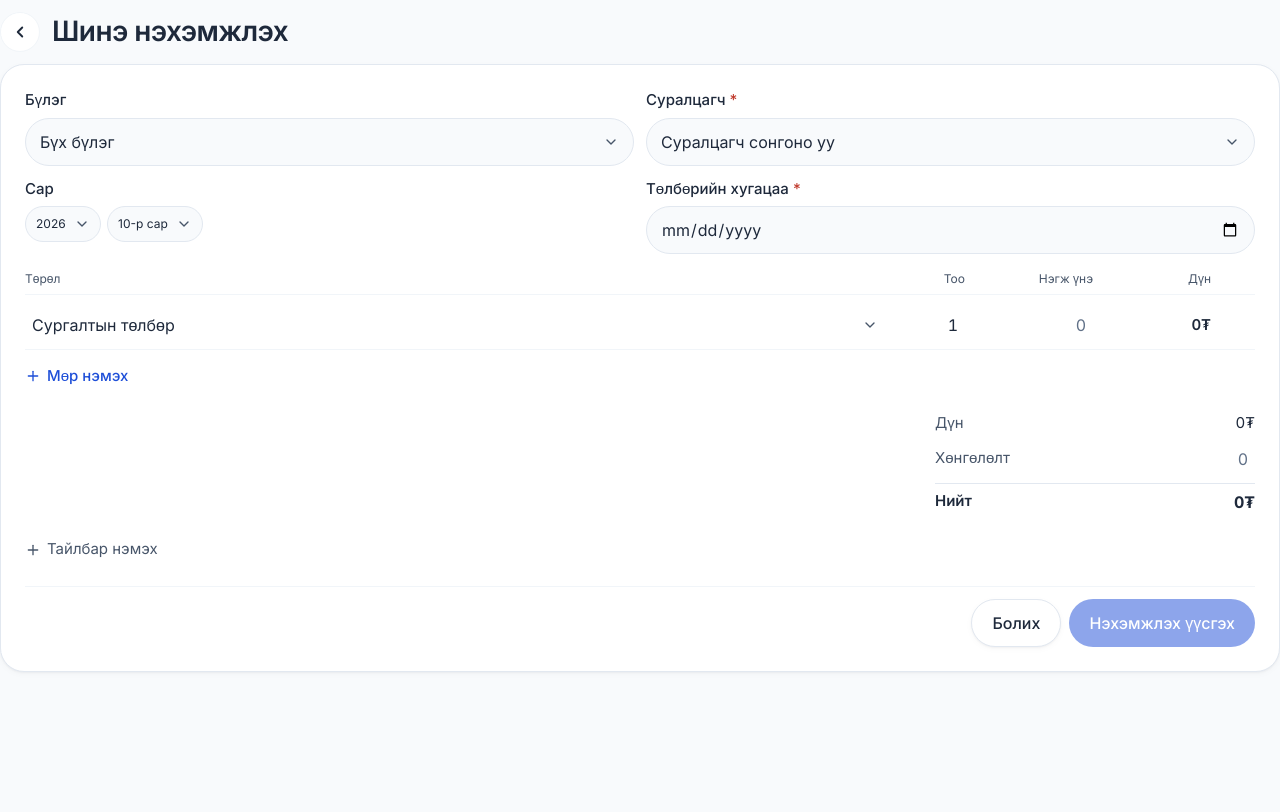
Test case: creating an invoice › is one minimal document: lines, totals, and the note on request
Expected: the heading "Шинэ нэхэмжлэх" is shown, [52, 12, 288, 52]
In the field named "Нэгж үнэ": (1033, 325) [973, 307, 1093, 343], type "150000"
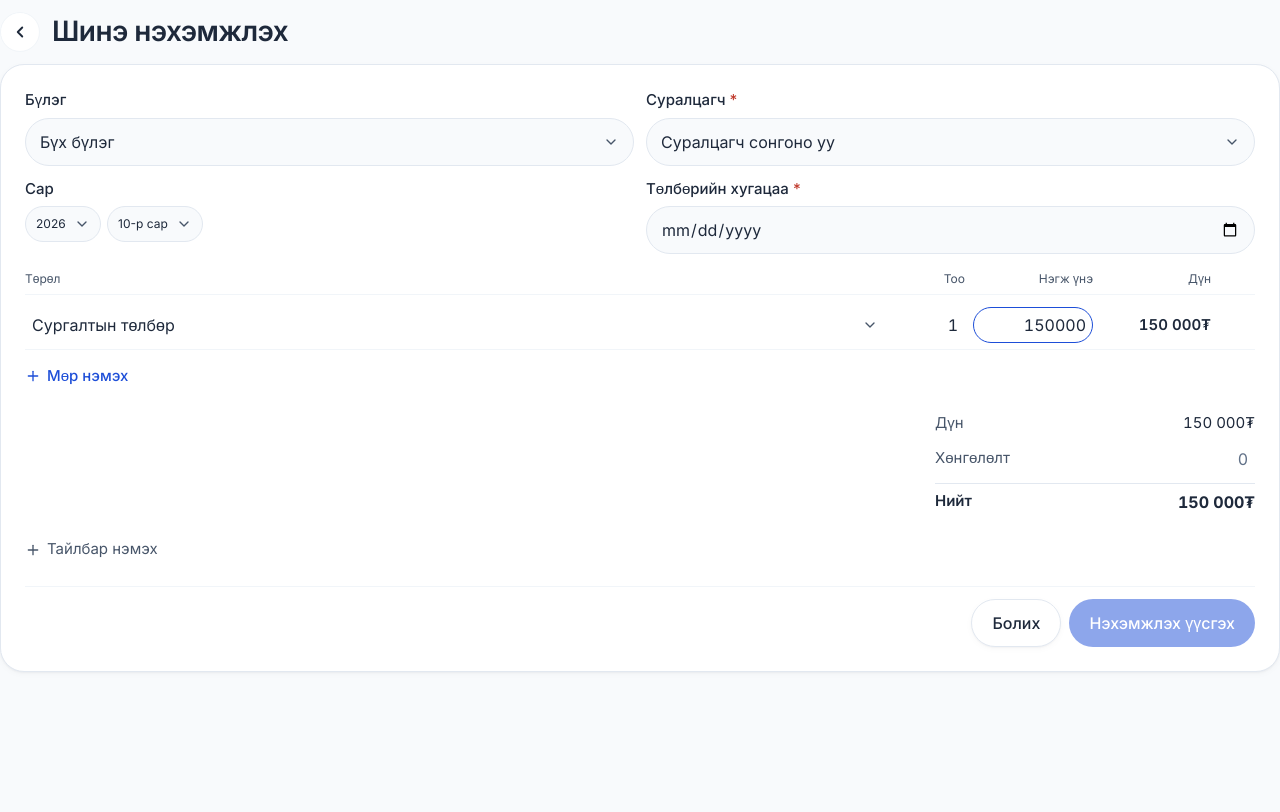
In the field labelled "Хөнгөлөлт": (1195, 458) [1135, 440, 1255, 476], type "10000"
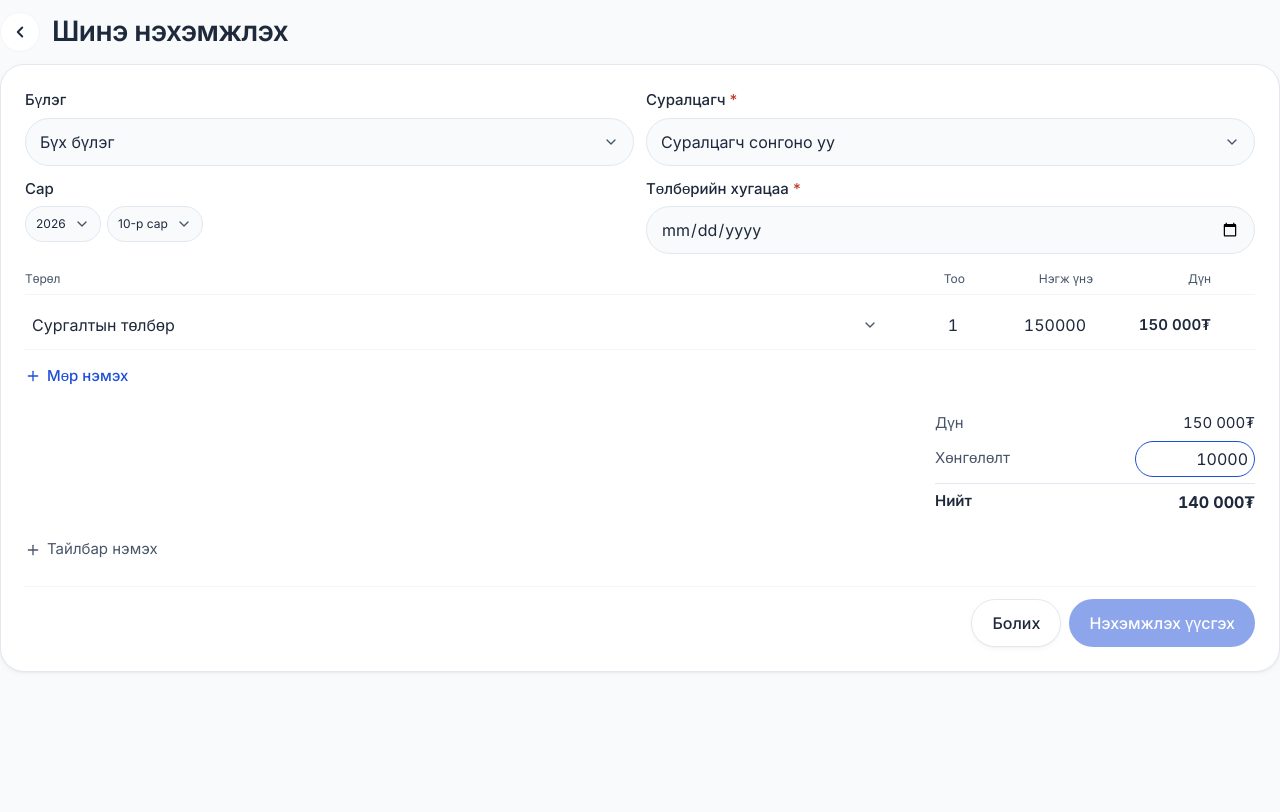
Now the text "140 000₮" is shown, box [1178, 490, 1255, 514]
Click the button "Тайлбар нэмэх": (91, 550) [25, 530, 158, 570]
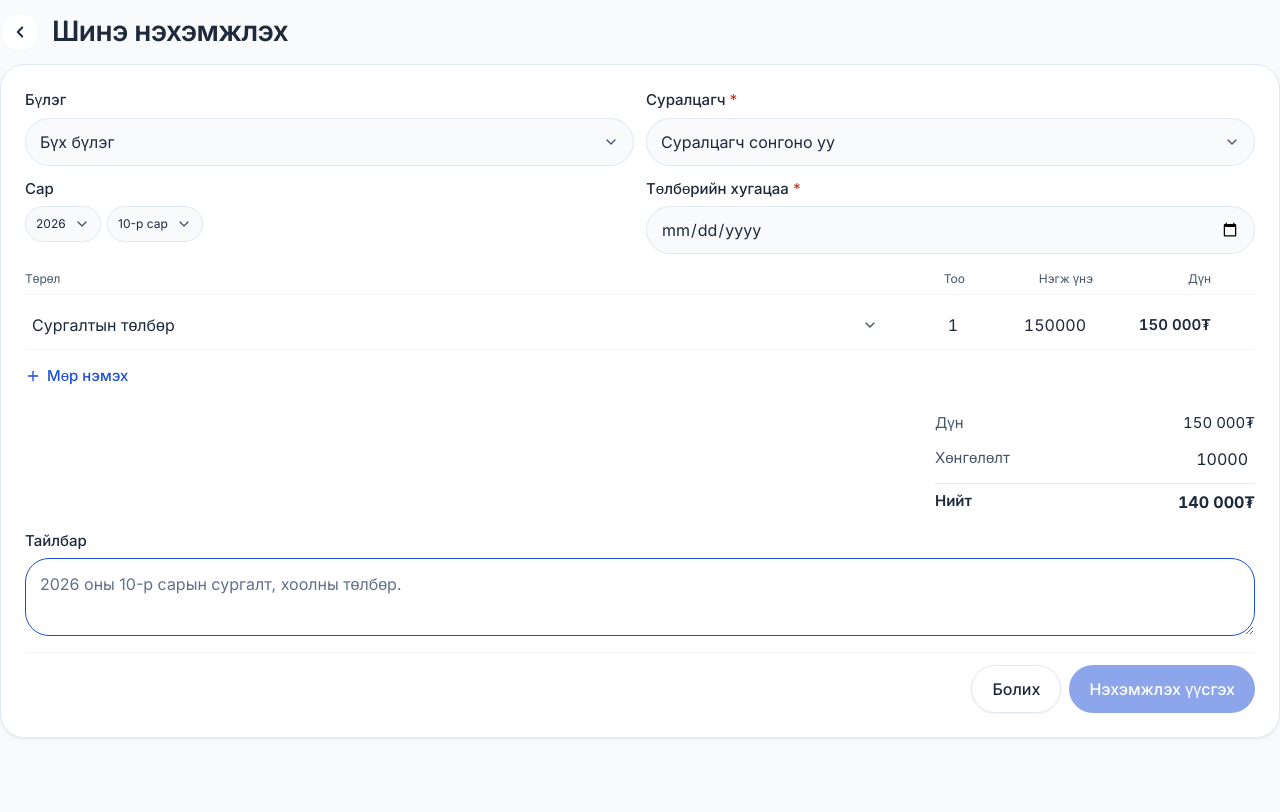
Now the text box labelled "Тайлбар" is shown, box [25, 558, 1255, 636]
